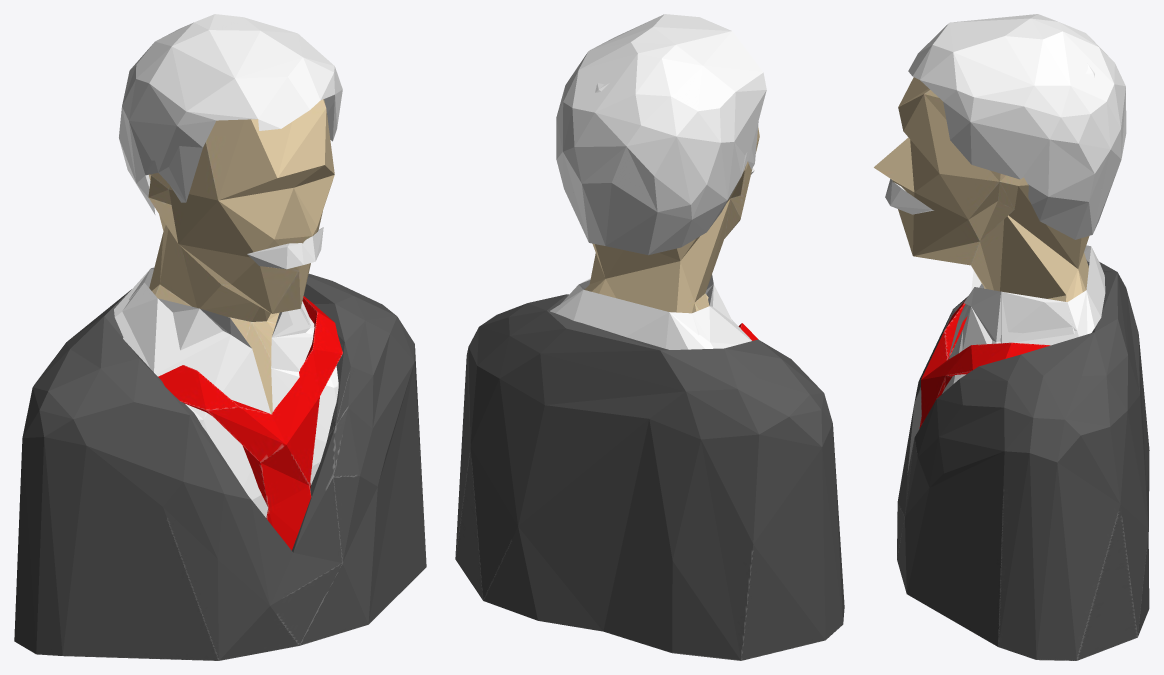
File: harter.glb
3 views of the same model, side by side, from view 1: azimuth 30°, elevation 25°; view 2: azimuth 150°, elevation 25°; view 3: azimuth 270°, elevation 25° (orthographic). The views are drawn at different scales.
Visible parts, largest first — view 1: ????; view 2: ????; view 3: ????.
Boxes of the visible parts, left/top/right/bottom form: ????: left=14, top=14, right=426, bottom=660; ????: left=455, top=14, right=844, bottom=660; ????: left=874, top=14, right=1149, bottom=660.
Size of the model in its own units: 1.67 by 2.39 by 1.08.
1 material, 1 textured.
